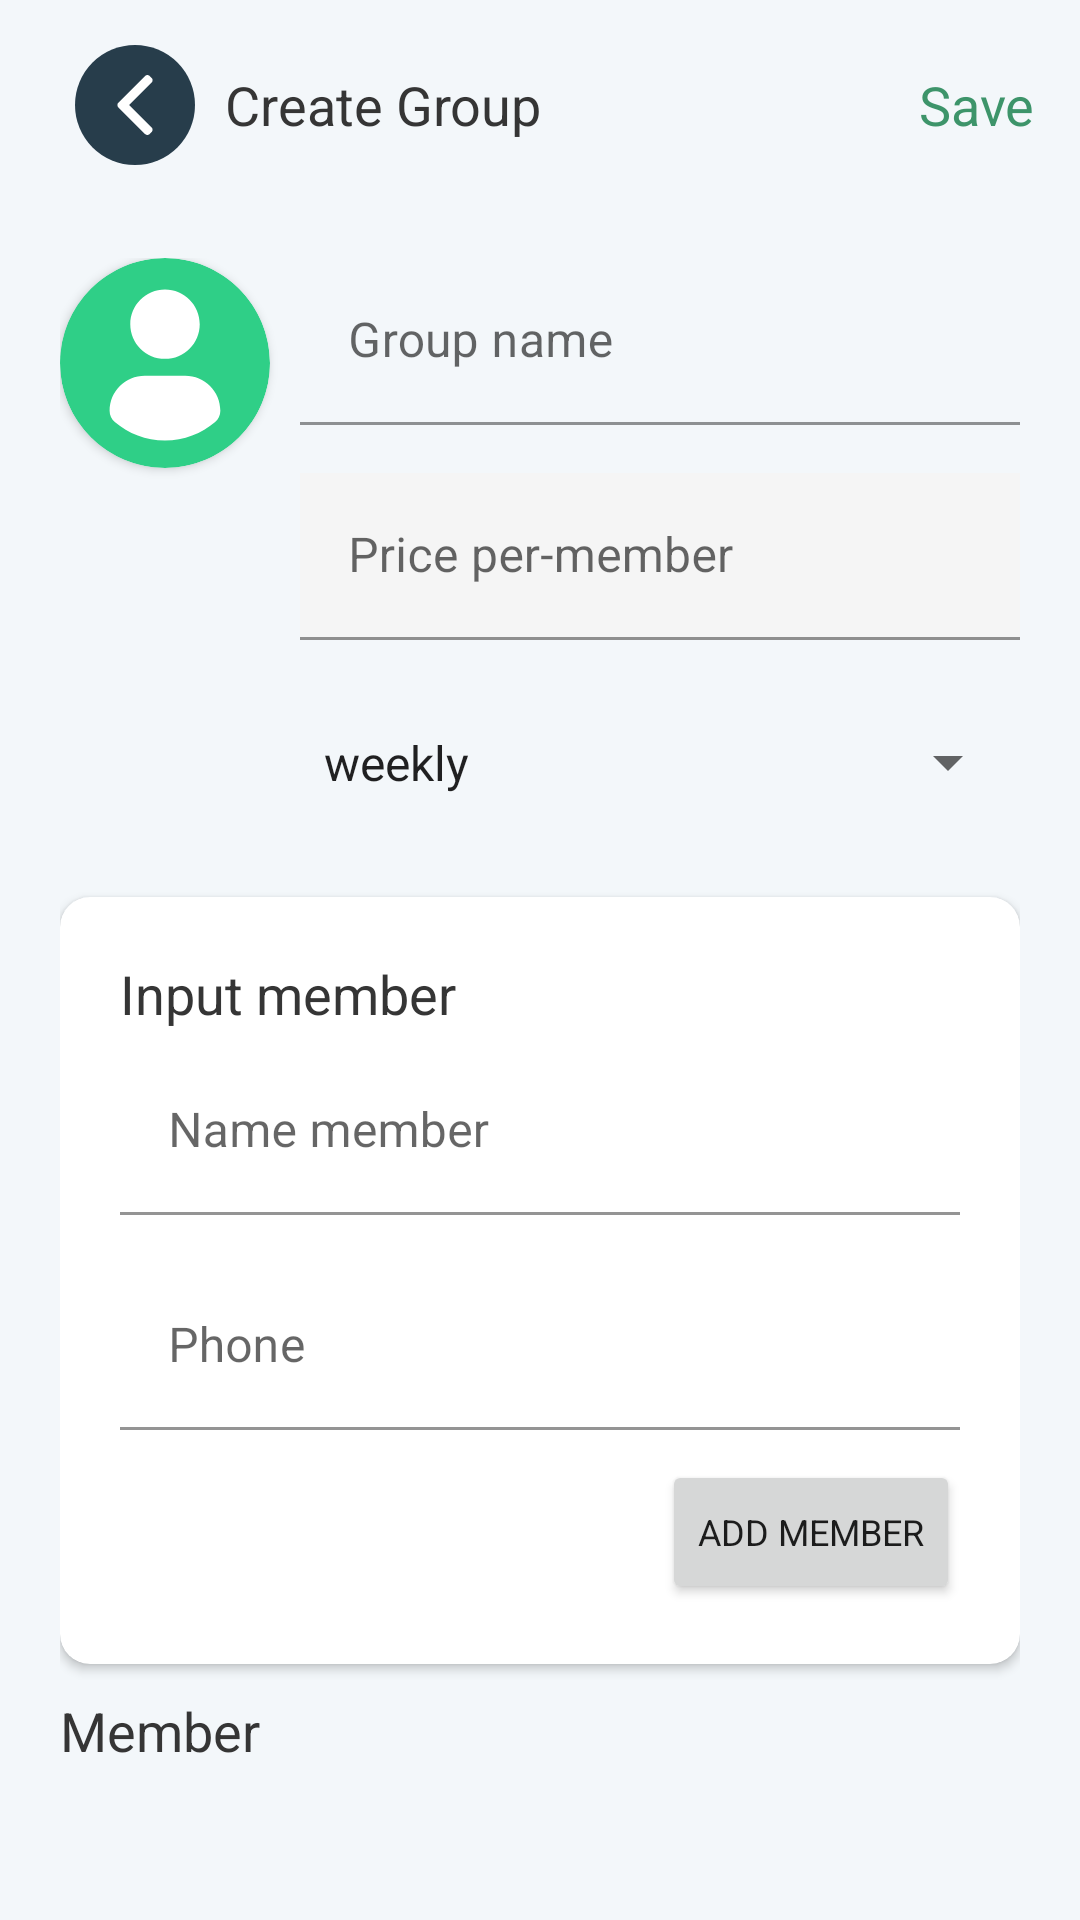

Icon click points for this 1080*1920 phone screenshot, format point (x, y):
left arrow: point (135, 105)
profile user: point (165, 363)
